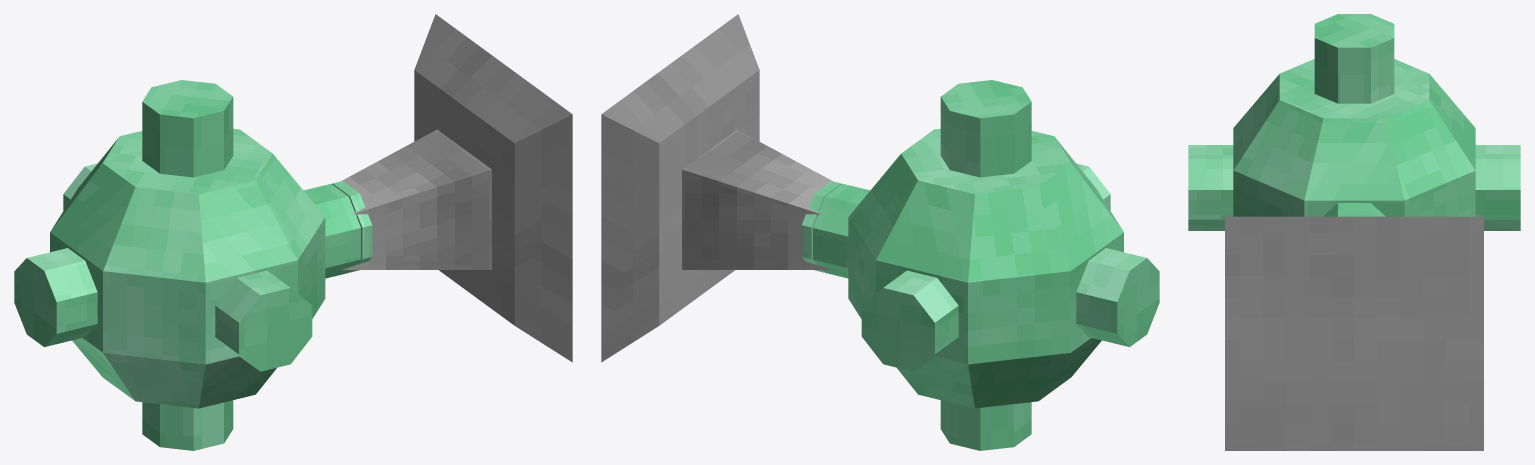
The model's file is VerticalHub.obj.
3 views of the same model, side by side, from view 1: azimuth 30°, elevation 25°; view 2: azimuth 150°, elevation 25°; view 3: azimuth 270°, elevation 25° (orthographic). The views are drawn at different scales.
Parts seen in each view (by area): view 1: Cowl, Stand, Cap; view 2: Cowl, Stand, Cap; view 3: Stand, Cowl.
Part boxes in pixels (<box>): Cowl: <box>14,80,360,450</box>; Stand: <box>341,14,572,362</box>; Cap: <box>332,181,372,272</box>; Cowl: <box>813,80,1159,450</box>; Stand: <box>601,14,832,362</box>; Cap: <box>801,181,841,272</box>; Stand: <box>1225,216,1483,450</box>; Cowl: <box>1188,14,1520,230</box>.
Bounding box in the file's own units: 0.7406 × 0.5024 × 0.4812.
Materials: 4 (3 with a texture image).
